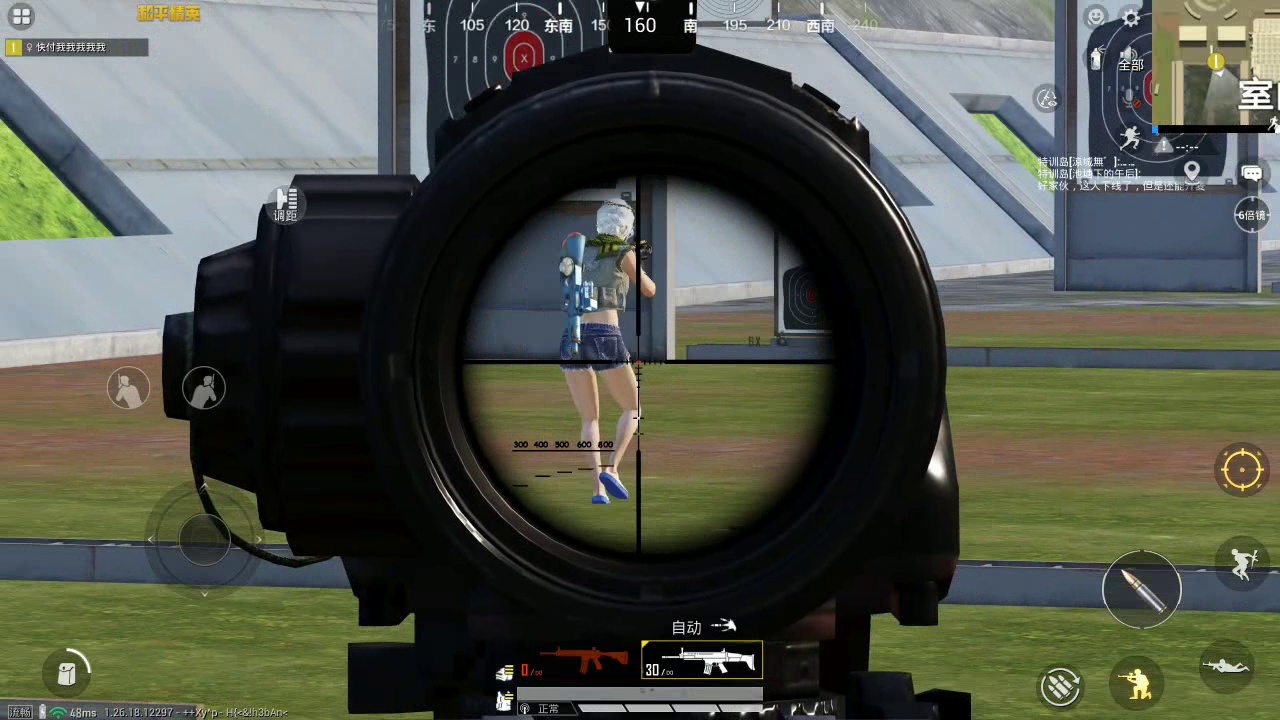enemy: (559, 196, 634, 504)
